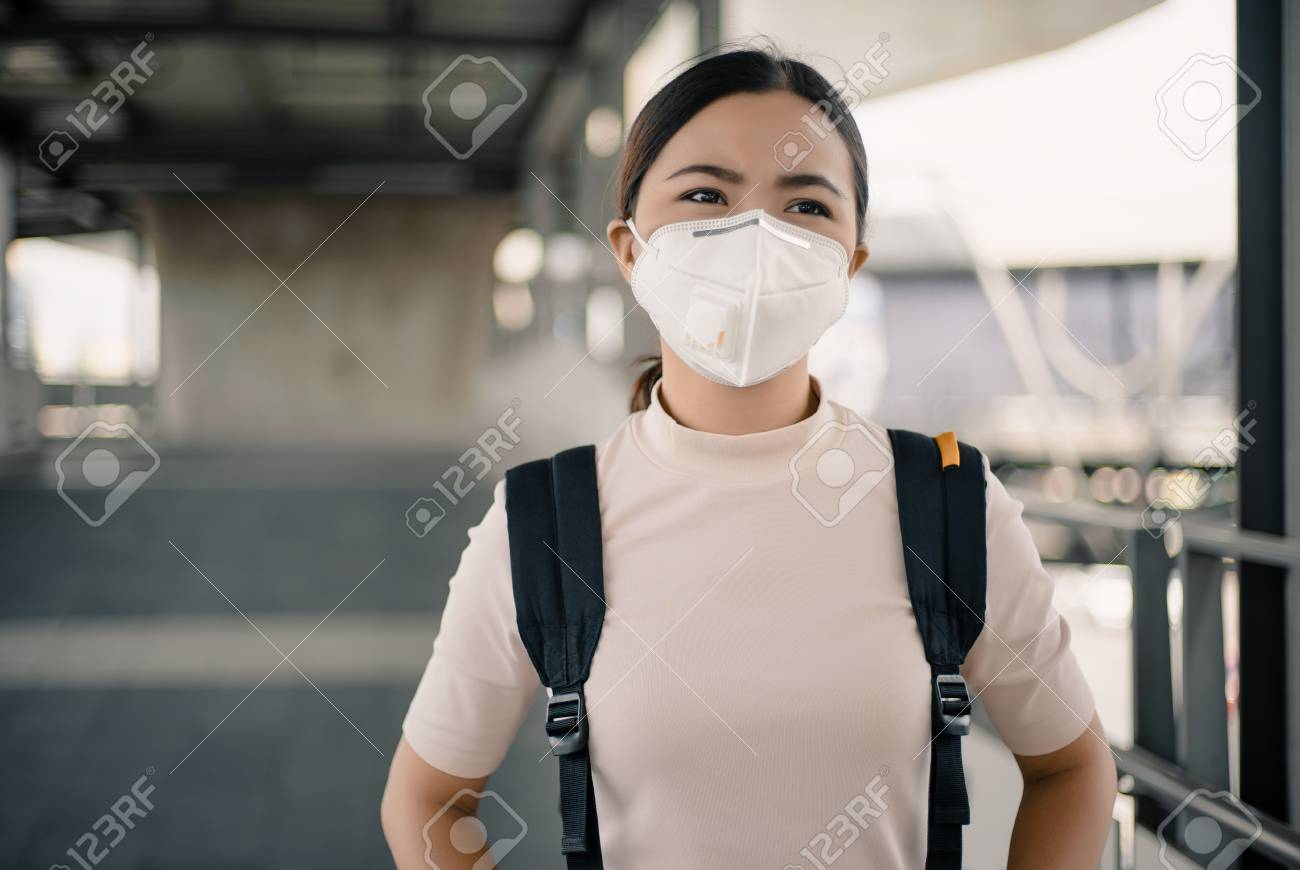n95: (624, 211, 864, 392)
